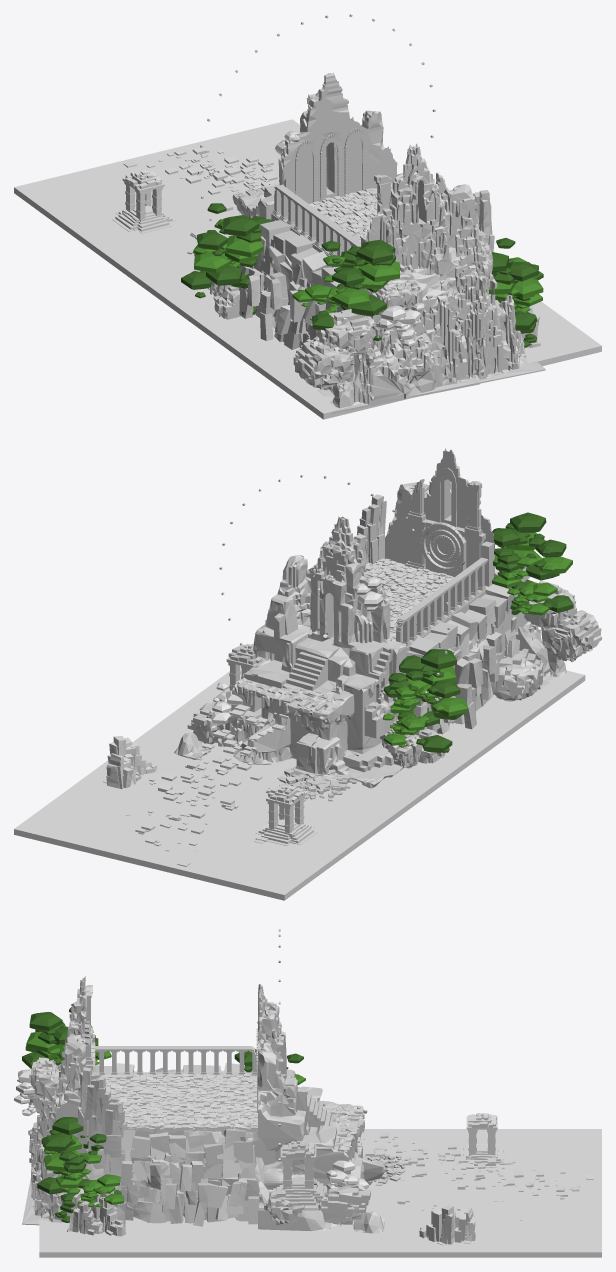
File: 0.1_Aztec.fbx
3 renders of one model, top to bottom at view 1: azimuth 30°, elevation 25°; view 2: azimuth 150°, elevation 25°; view 3: azimuth 270°, elevation 25°, orthographic. The views are drawn at different scales.
Visible parts, largest first — view 1: Temple.001, Water, 0.2_tree, 0.1_tree, 0.6_tree, Temple, Floating steps, Floor, 0.5_tree; view 2: Temple.001, Water, 0.2_tree, 0.1_tree, Floating steps, Floor, Temple, 0.1_rock, 0.4_tree, 0.3_tree, Stones in water; view 3: Temple.001, Water, Floor, 0.6_tree, Floating steps, 0.2_tree, 0.1_rock, Temple, 0.4_tree, 0.5_tree, Stones in water, 0.1_tree.
Part boxes in pixels (left/top/right/bottom): Temple.001: left=187, top=72, right=545, bottom=413; Water: left=14, top=119, right=601, bottom=419; 0.2_tree: left=292, top=239, right=400, bottom=340; 0.1_tree: left=181, top=203, right=272, bottom=314; 0.6_tree: left=486, top=238, right=543, bottom=347; Temple: left=111, top=170, right=176, bottom=233; Floating steps: left=146, top=147, right=279, bottom=194; Floor: left=288, top=183, right=392, bottom=241; 0.5_tree: left=376, top=303, right=424, bottom=346; Temple.001: left=174, top=448, right=601, bottom=801; Water: left=14, top=665, right=585, bottom=900; 0.2_tree: left=492, top=512, right=573, bottom=615; 0.1_tree: left=383, top=649, right=468, bottom=752; Floating steps: left=135, top=697, right=288, bottom=851; Floor: left=365, top=558, right=477, bottom=640; Temple: left=255, top=785, right=317, bottom=845; 0.1_rock: left=103, top=736, right=157, bottom=789; 0.4_tree: left=211, top=682, right=242, bottom=726; 0.3_tree: left=354, top=577, right=383, bottom=611; Stones in water: left=126, top=766, right=309, bottom=866; Temple.001: left=22, top=976, right=405, bottom=1236; Water: left=39, top=1129, right=601, bottom=1257; Floor: left=100, top=1073, right=257, bottom=1132; 0.6_tree: left=37, top=1117, right=123, bottom=1222; Floating steps: left=357, top=1132, right=579, bottom=1199; 0.2_tree: left=22, top=1007, right=111, bottom=1070; 0.1_rock: left=419, top=1204, right=475, bottom=1245; Temple: left=457, top=1113, right=506, bottom=1167; 0.4_tree: left=326, top=1159, right=368, bottom=1188; 0.5_tree: left=14, top=1069, right=43, bottom=1116; Stones in water: left=397, top=1158, right=593, bottom=1220; 0.1_tree: left=234, top=1049, right=305, bottom=1084.
Bounding box in the file's own units: 21998 × 19732 × 41835.
